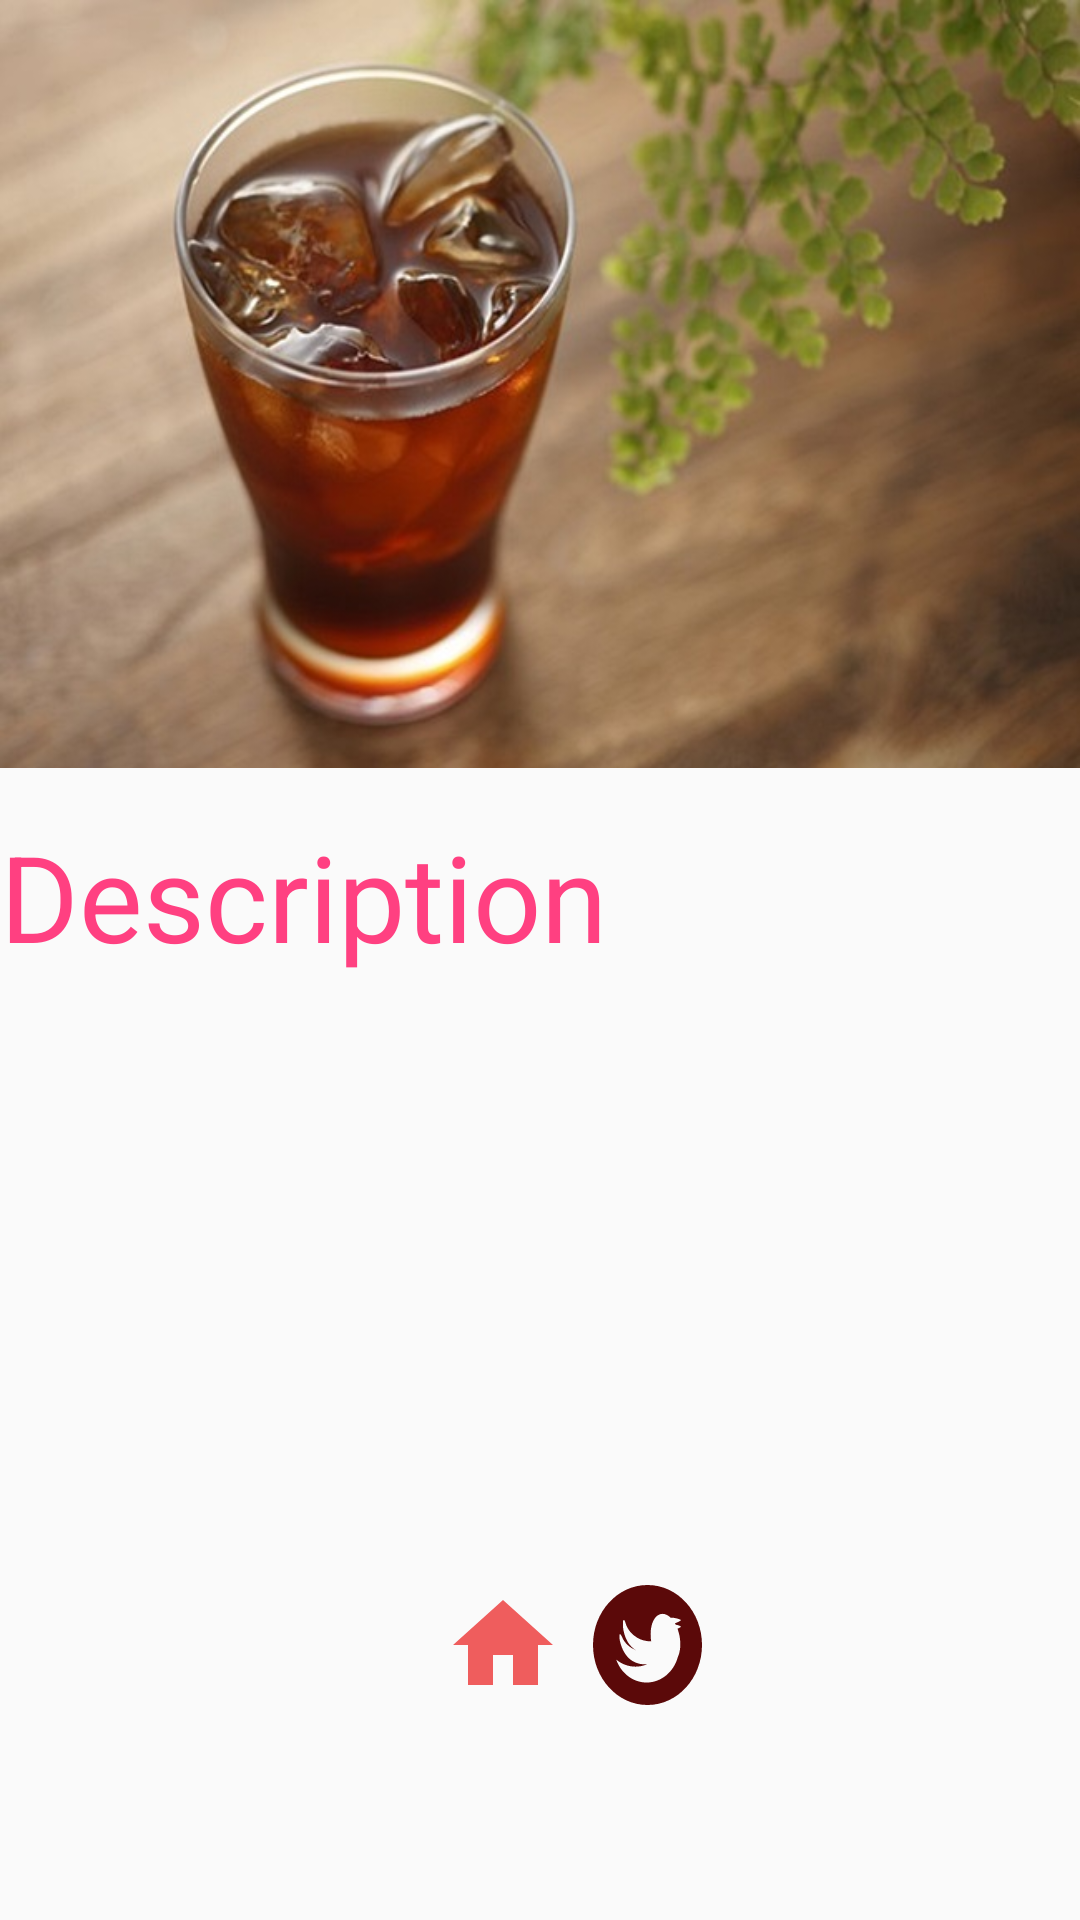

Icon bounding boxes for this 1080 × 1920 phone screenshot, format bbox=[x1, y1, x2, y2]:
home: bbox=[453, 1600, 553, 1685]
